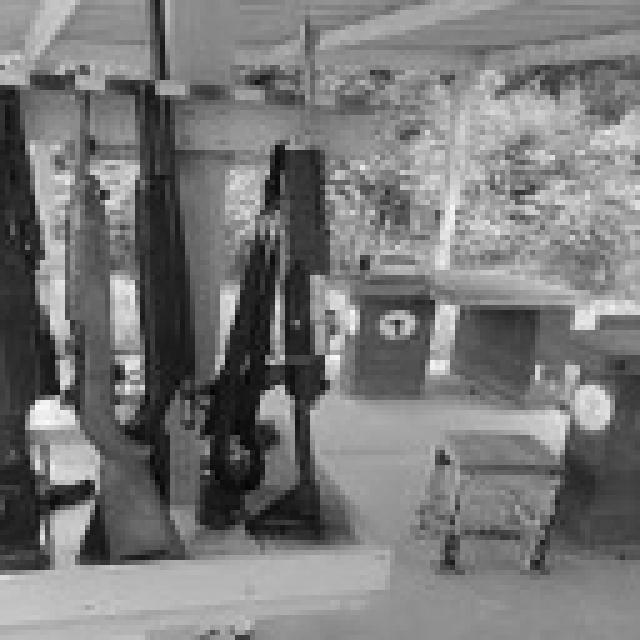Rifle: (32, 6, 198, 614), (77, 0, 231, 585), (227, 26, 383, 557), (180, 78, 314, 567), (0, 15, 105, 585)
